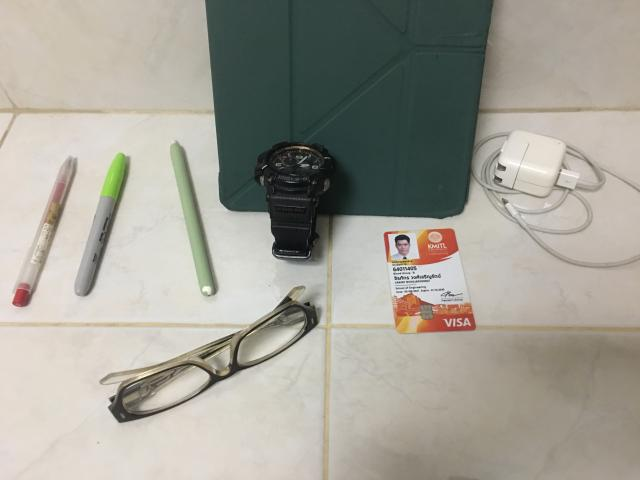Glasses: (100, 286, 318, 422)
Pen: (12, 156, 74, 306), (75, 152, 125, 296)
Watch: (255, 142, 336, 260)
wire: (471, 130, 640, 268)
